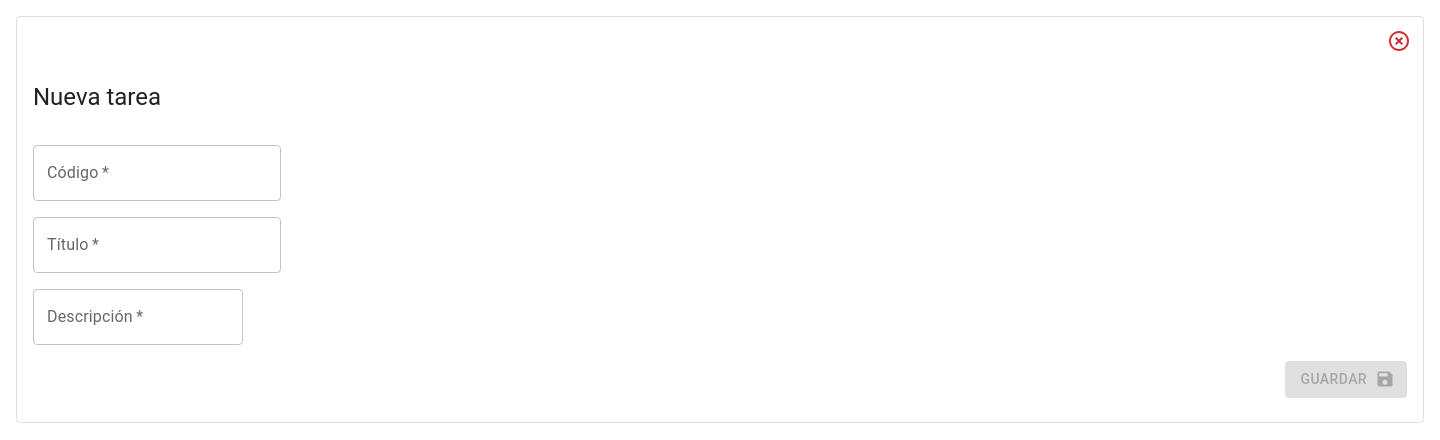
Test case: NewTask › should enable save button when Code, TaskName,and TaskDescription are filled
Expected: the field with placeholder "Leer" is empty, top-left (33, 217), bottom-right (281, 273)
Expected: the text box with placeholder "Descripción de la tarea" is empty, top-left (47, 306), bottom-right (229, 328)
Type "123" into the field with placeholder "Código de la tarea" at (157, 173), box top-left (33, 145), bottom-right (281, 201)
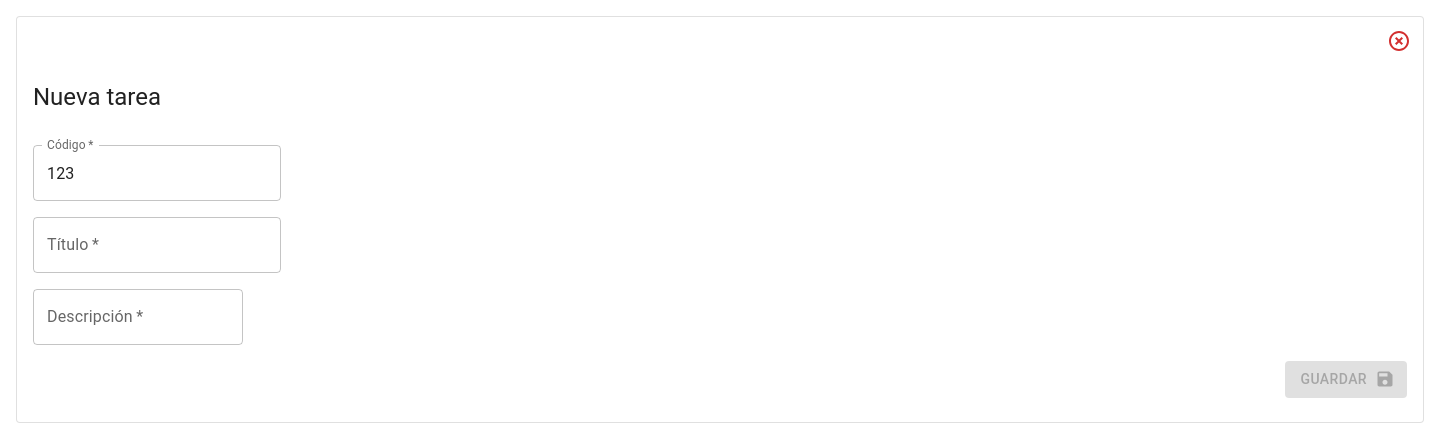
Type "Leer libro" into the field with placeholder "Leer" at (157, 245), box top-left (33, 217), bottom-right (281, 273)
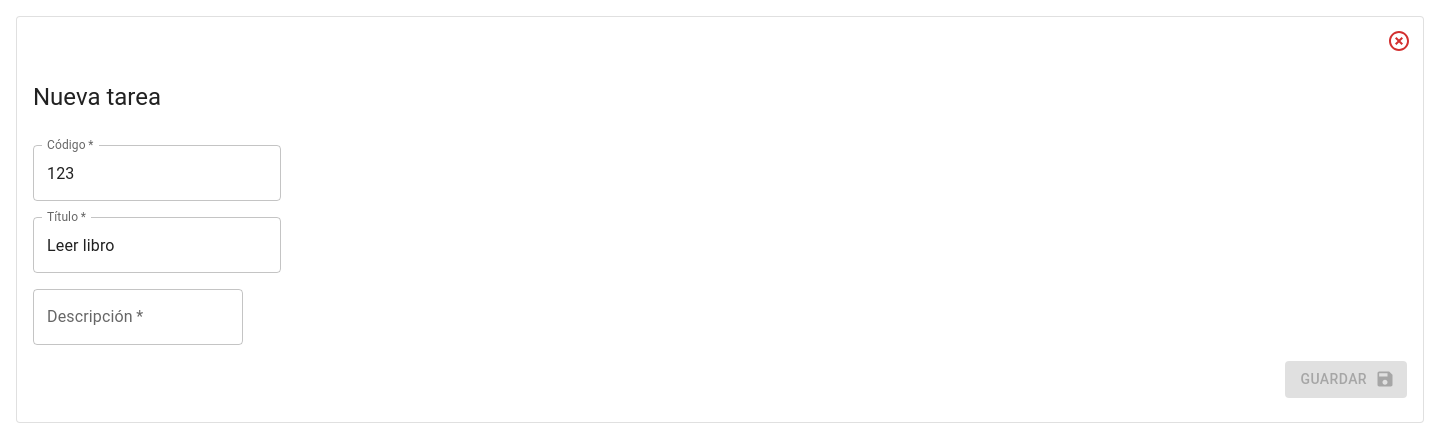
Type "Leer clean code" into the text box with placeholder "Descripción de la tarea" at (138, 317), box top-left (47, 306), bottom-right (229, 328)
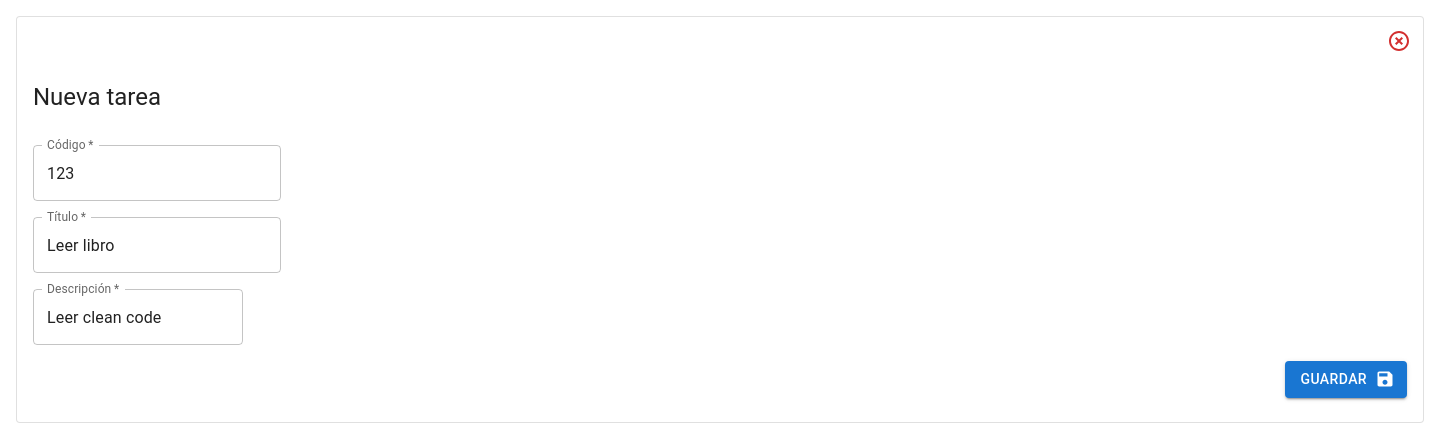
Expected: the button "Guardar" is enabled, top-left (1284, 361), bottom-right (1407, 398)
